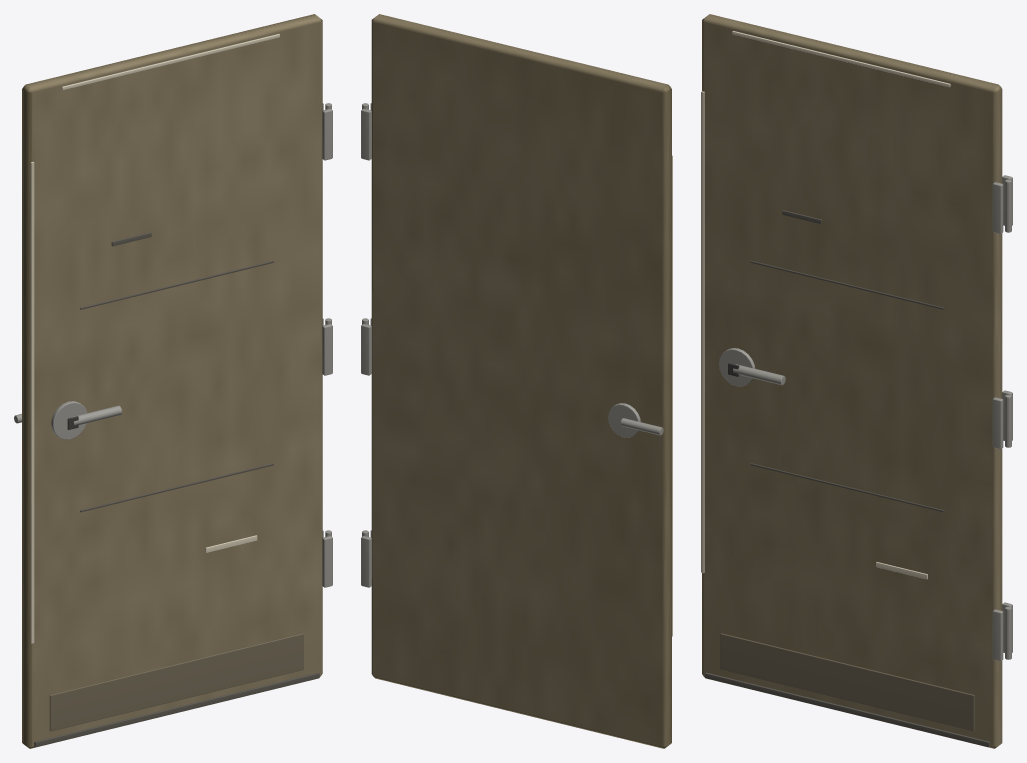
The model's file is OldOfficeDoor_A.glb.
The picture shows the model from 3 angles, left to right: view 1: azimuth 30°, elevation 25°; view 2: azimuth 150°, elevation 25°; view 3: azimuth 330°, elevation 25°; orthographic projection.
Visible parts, largest first — view 1: OldOfficeDoor_A_panel, OldOfficeDoor_A_bottom_grime, OldOfficeDoor_A_front_left_edge_wear, OldOfficeDoor_A_bottom_edge_shadow, OldOfficeDoor_A_front_top_edge_wear, OldOfficeDoor_A_front_handle_plate, OldOfficeDoor_A_faint_horizontal_seam_1.36, OldOfficeDoor_A_faint_horizontal_seam_0.72, OldOfficeDoor_A_hinge_leaf_front_2, OldOfficeDoor_A_hinge_leaf_front_0, OldOfficeDoor_A_hinge_leaf_front_1; view 2: OldOfficeDoor_A_panel, OldOfficeDoor_A_back_handle_plate, OldOfficeDoor_A_hinge_leaf_back_0, OldOfficeDoor_A_hinge_leaf_back_2, OldOfficeDoor_A_hinge_leaf_back_1; view 3: OldOfficeDoor_A_panel, OldOfficeDoor_A_bottom_grime, OldOfficeDoor_A_front_left_edge_wear, OldOfficeDoor_A_bottom_edge_shadow, OldOfficeDoor_A_front_top_edge_wear, OldOfficeDoor_A_front_handle_plate, OldOfficeDoor_A_hinge_leaf_front_1, OldOfficeDoor_A_hinge_leaf_front_0, OldOfficeDoor_A_hinge_leaf_front_2, OldOfficeDoor_A_faint_horizontal_seam_0.72, OldOfficeDoor_A_faint_horizontal_seam_1.36, OldOfficeDoor_A_front_handle_lever.
Boxes of the visible parts, <box> form: OldOfficeDoor_A_panel: <box>22,14,322,748</box>; OldOfficeDoor_A_bottom_grime: <box>49,633,303,731</box>; OldOfficeDoor_A_front_left_edge_wear: <box>30,162,34,643</box>; OldOfficeDoor_A_bottom_edge_shadow: <box>34,672,319,747</box>; OldOfficeDoor_A_front_top_edge_wear: <box>61,34,279,90</box>; OldOfficeDoor_A_front_handle_plate: <box>51,401,87,439</box>; OldOfficeDoor_A_faint_horizontal_seam_1.36: <box>80,260,273,309</box>; OldOfficeDoor_A_faint_horizontal_seam_0.72: <box>80,463,273,512</box>; OldOfficeDoor_A_hinge_leaf_front_2: <box>322,108,332,160</box>; OldOfficeDoor_A_hinge_leaf_front_0: <box>322,536,332,587</box>; OldOfficeDoor_A_hinge_leaf_front_1: <box>322,324,332,375</box>; OldOfficeDoor_A_panel: <box>371,14,671,748</box>; OldOfficeDoor_A_back_handle_plate: <box>608,403,640,437</box>; OldOfficeDoor_A_hinge_leaf_back_0: <box>361,536,371,587</box>; OldOfficeDoor_A_hinge_leaf_back_2: <box>361,108,371,160</box>; OldOfficeDoor_A_hinge_leaf_back_1: <box>361,324,371,375</box>; OldOfficeDoor_A_panel: <box>702,14,1002,748</box>; OldOfficeDoor_A_bottom_grime: <box>720,633,974,731</box>; OldOfficeDoor_A_front_left_edge_wear: <box>701,91,704,573</box>; OldOfficeDoor_A_bottom_edge_shadow: <box>705,672,989,747</box>; OldOfficeDoor_A_front_top_edge_wear: <box>732,31,950,87</box>; OldOfficeDoor_A_front_handle_plate: <box>719,348,755,386</box>; OldOfficeDoor_A_hinge_leaf_front_1: <box>992,397,1003,449</box>; OldOfficeDoor_A_hinge_leaf_front_0: <box>992,609,1003,661</box>; OldOfficeDoor_A_hinge_leaf_front_2: <box>992,182,1003,233</box>; OldOfficeDoor_A_faint_horizontal_seam_0.72: <box>750,463,944,512</box>; OldOfficeDoor_A_faint_horizontal_seam_1.36: <box>750,260,944,309</box>; OldOfficeDoor_A_front_handle_lever: <box>733,364,785,385</box>.
Bounding box in the file's own units: 1.02 × 2.09 × 0.1196.
6 materials, 1 textured.
